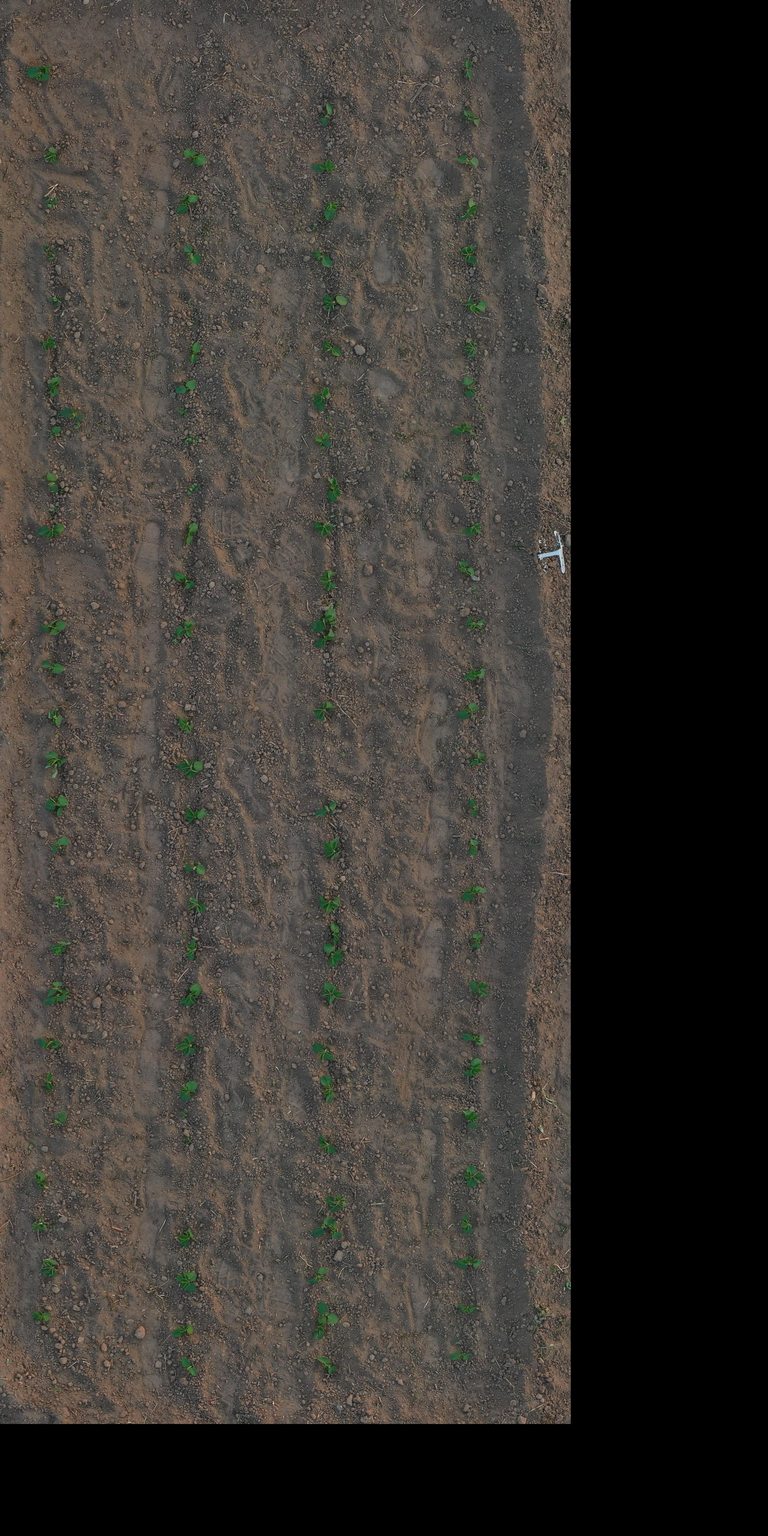s: (176, 758, 204, 780), (312, 608, 336, 632), (321, 982, 344, 1006), (312, 700, 336, 722), (45, 794, 69, 816), (323, 943, 344, 968), (318, 1301, 339, 1325), (312, 387, 332, 412), (180, 983, 201, 1006), (464, 1165, 485, 1188), (176, 194, 200, 214), (312, 1042, 336, 1062), (322, 294, 348, 312), (176, 1033, 196, 1056), (312, 1216, 333, 1237), (176, 1271, 197, 1292), (456, 702, 480, 720), (44, 751, 69, 768), (314, 628, 335, 648), (320, 1075, 335, 1103), (459, 198, 478, 220), (315, 801, 338, 819), (318, 896, 341, 914), (315, 1357, 338, 1375), (183, 149, 207, 166), (37, 524, 64, 539), (456, 1255, 483, 1270), (312, 1313, 327, 1340), (462, 886, 487, 902), (179, 1081, 198, 1102), (325, 1194, 347, 1212), (47, 981, 70, 998), (452, 421, 476, 437), (183, 244, 202, 264), (313, 249, 333, 268), (319, 570, 337, 591), (322, 839, 340, 860), (469, 980, 490, 998), (26, 67, 51, 82), (460, 522, 482, 539), (465, 298, 488, 314), (310, 159, 336, 173), (327, 477, 341, 503), (40, 1259, 59, 1278), (464, 1058, 483, 1077), (318, 1134, 336, 1154), (175, 621, 196, 638), (174, 572, 195, 589), (59, 407, 86, 420), (37, 1037, 64, 1050), (323, 339, 342, 357), (51, 836, 69, 855), (460, 245, 477, 265), (308, 1267, 328, 1284), (49, 941, 71, 956), (185, 808, 207, 823), (462, 109, 480, 127), (314, 432, 332, 450), (188, 896, 207, 913), (181, 1357, 198, 1376), (319, 103, 333, 126), (41, 660, 64, 674), (463, 376, 478, 397), (185, 522, 198, 546), (462, 668, 486, 681), (174, 380, 196, 394), (46, 472, 60, 494), (176, 716, 194, 733), (462, 1110, 479, 1128), (178, 1229, 194, 1248), (43, 994, 68, 1006), (186, 938, 199, 961), (183, 862, 206, 875), (461, 1033, 484, 1046), (314, 521, 332, 537), (468, 750, 486, 766), (172, 1324, 194, 1337), (324, 202, 339, 221), (40, 618, 59, 633), (48, 376, 62, 396), (48, 706, 62, 726), (466, 616, 486, 630), (456, 155, 479, 167), (330, 923, 342, 946), (461, 1214, 474, 1235), (43, 147, 59, 164), (458, 561, 474, 578), (34, 1171, 49, 1189), (32, 1216, 48, 1232), (49, 621, 66, 636), (457, 1303, 480, 1314), (462, 60, 474, 81), (464, 340, 478, 358), (330, 1218, 342, 1239), (190, 342, 201, 363), (54, 896, 70, 910), (470, 932, 483, 949), (461, 472, 482, 482), (468, 798, 479, 817), (32, 1311, 51, 1322), (450, 1351, 472, 1360), (54, 1111, 68, 1125), (44, 337, 57, 351), (45, 1072, 54, 1091), (469, 839, 479, 856), (49, 426, 61, 438), (47, 296, 61, 306), (46, 198, 58, 208), (38, 66, 52, 74), (186, 487, 198, 495), (41, 244, 50, 254), (184, 434, 193, 444), (47, 250, 55, 260), (188, 436, 199, 443), (45, 196, 54, 204), (190, 483, 200, 489)
